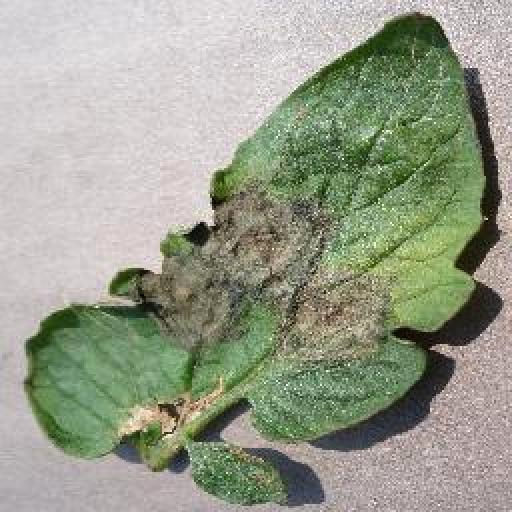disease_tomato: (23, 11, 489, 457)
